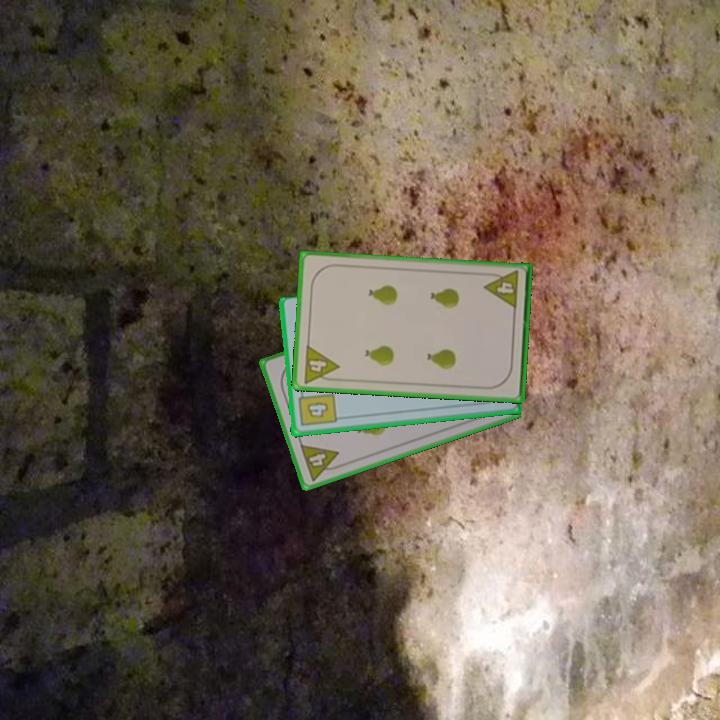4b: (294, 387, 339, 429)
4p: (296, 441, 346, 484), (300, 341, 342, 386), (481, 267, 521, 312)
